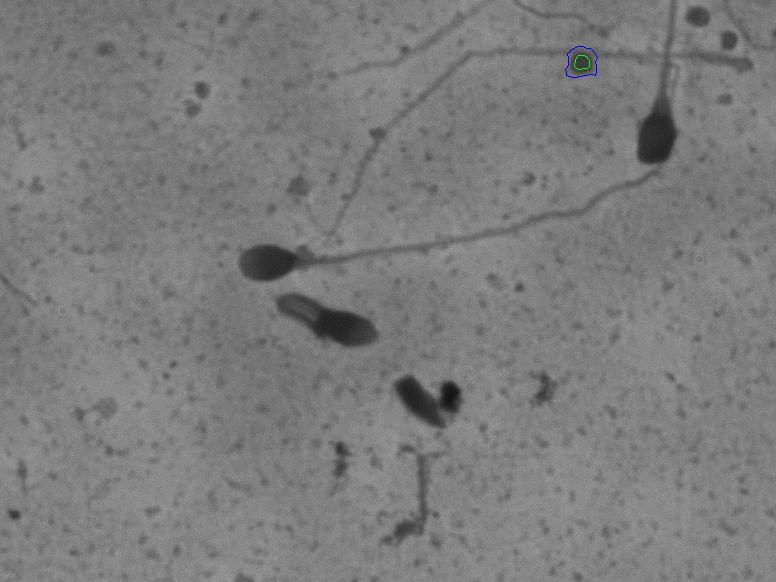Abnormal: (247, 287, 396, 373)
Normal: (231, 162, 676, 282)
